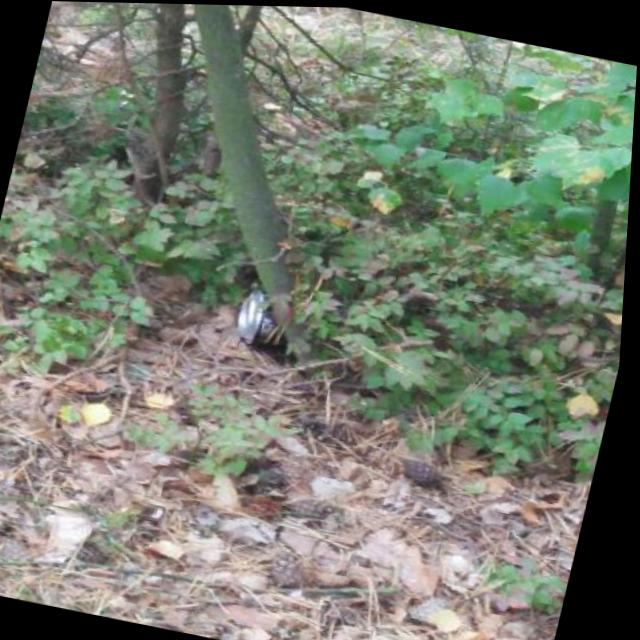metal: (257, 332, 328, 399)
